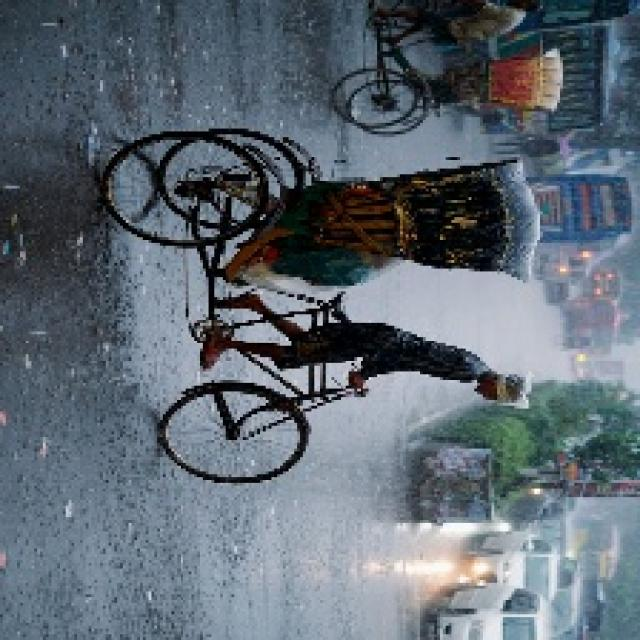rickshaw: (156, 135, 528, 489), (344, 16, 571, 136)
